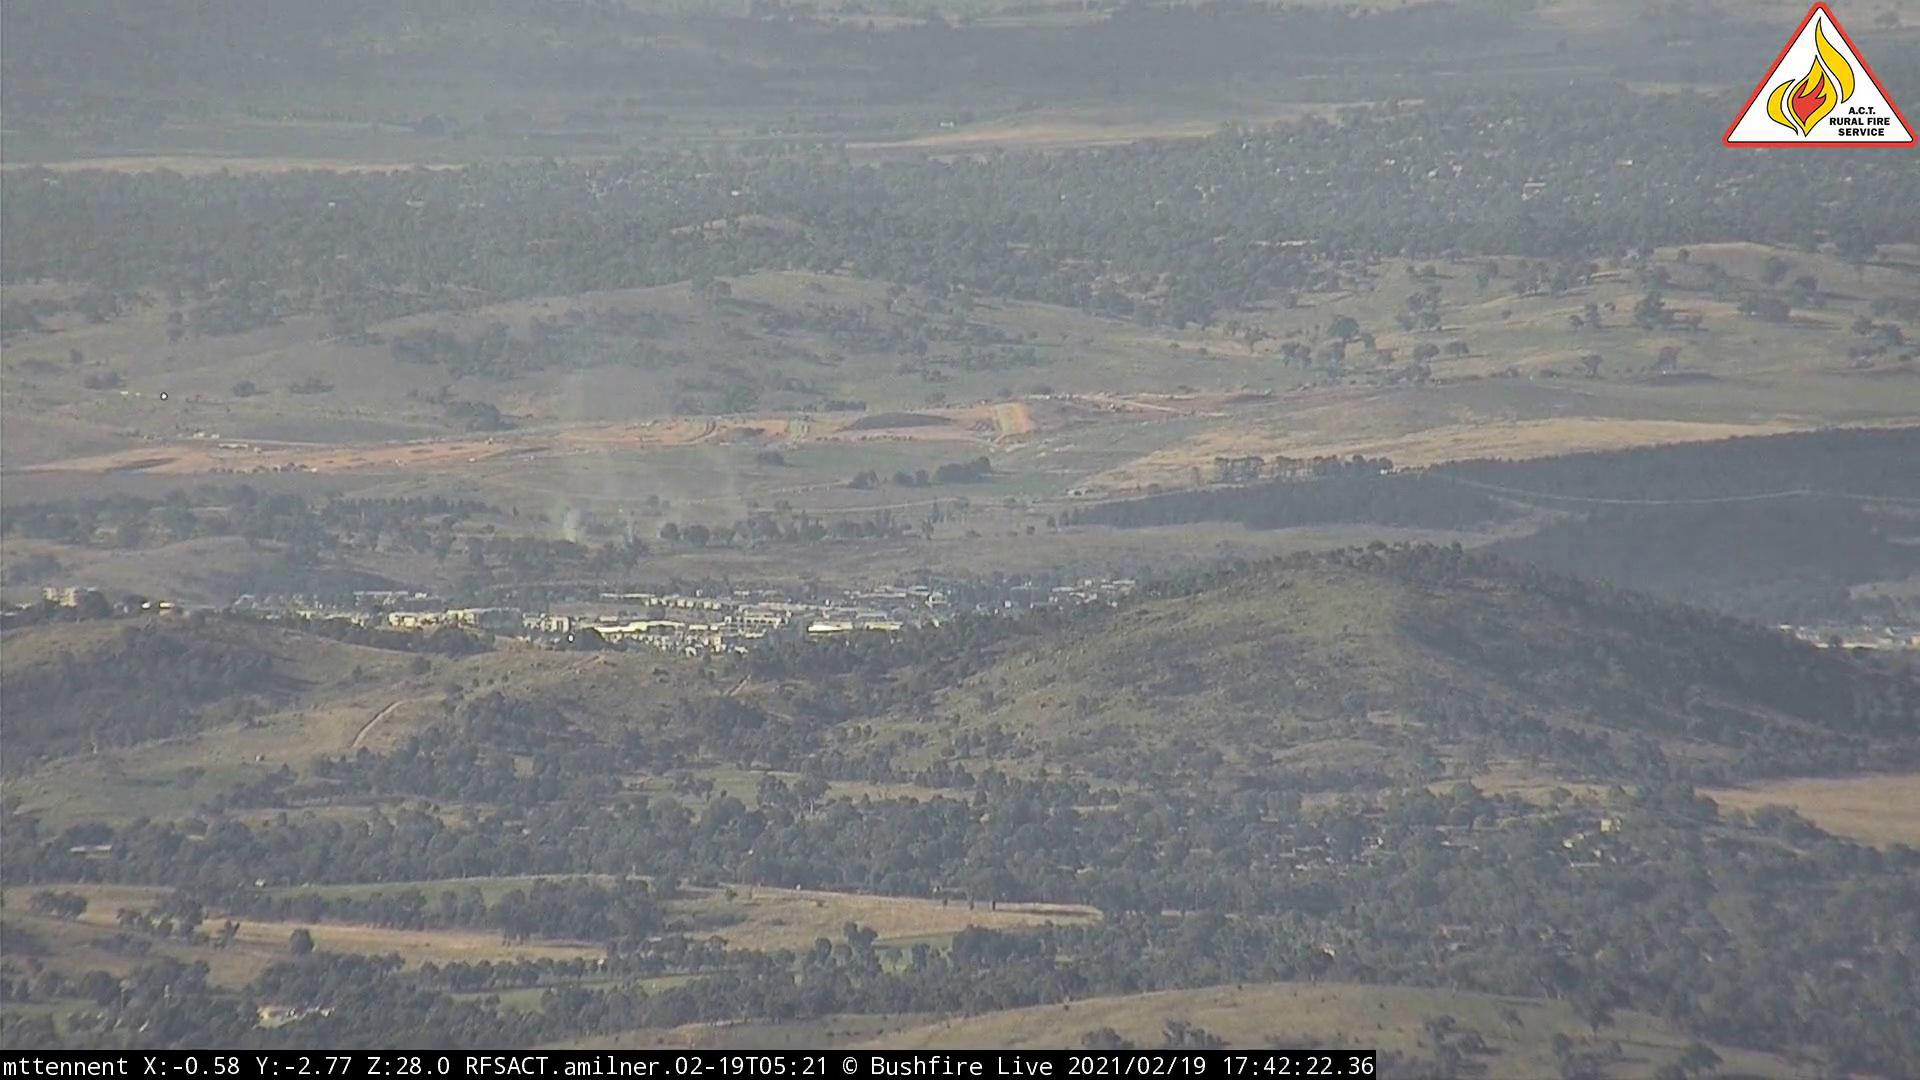instance_salient_object: (531, 439, 764, 549)
